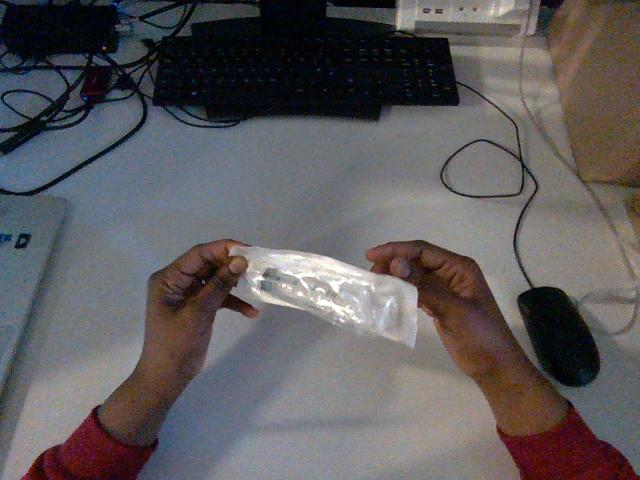syringe: (230, 246, 416, 346)
